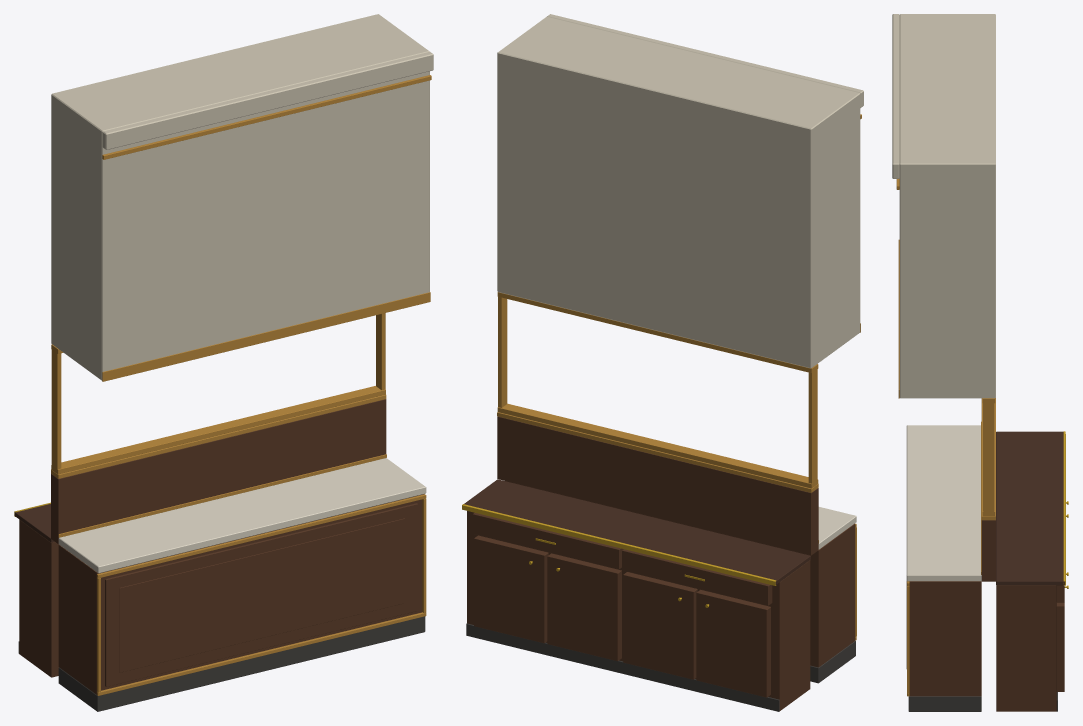
Rendered from prop_of_teller_bay.glb.
3 views of the same model, side by side, from view 1: azimuth 30°, elevation 25°; view 2: azimuth 150°, elevation 25°; view 3: azimuth 270°, elevation 25° (orthographic). The views are drawn at different scales.
Visible parts, largest first — view 1: Counter; view 2: Counter; view 3: Counter.
Boxes of the visible parts, bbox=[...] form: Counter: bbox=[14, 14, 433, 711]; Counter: bbox=[462, 14, 863, 711]; Counter: bbox=[892, 14, 1068, 711].
Size of the model in its own units: 2.47 by 4.2 by 1.22.
